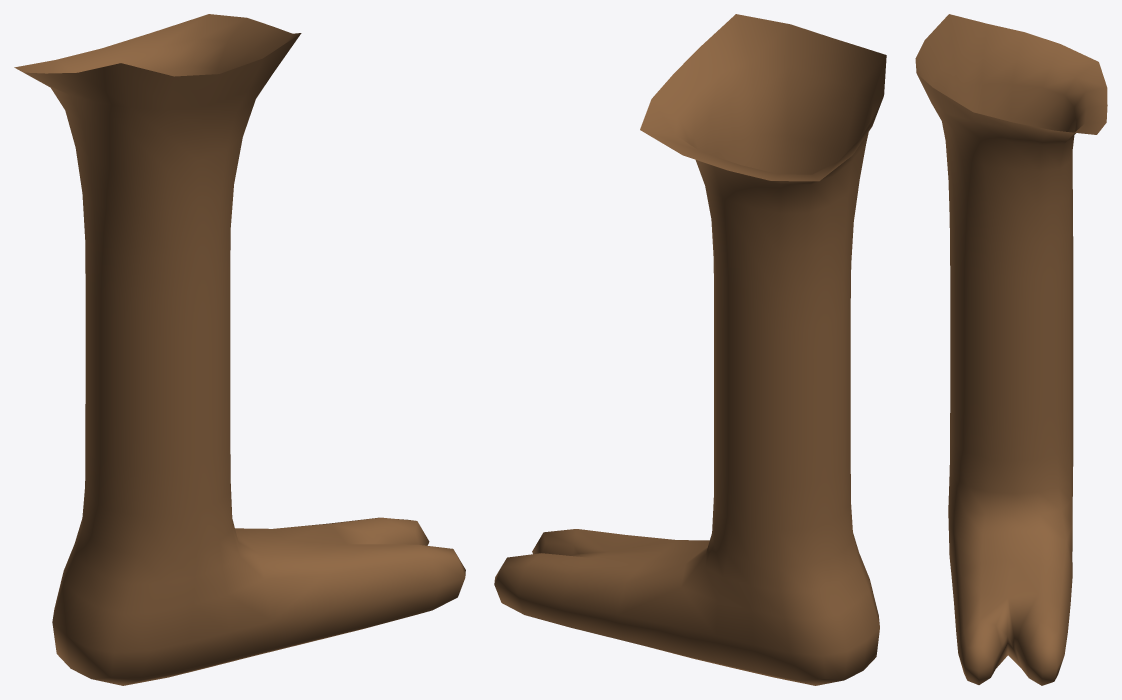
File: piederecho.obj
3 renders of one model, left to right at view 1: azimuth 30°, elevation 25°; view 2: azimuth 150°, elevation 25°; view 3: azimuth 270°, elevation 25°, orthographic. The views are drawn at different scales.
Visible parts, largest first — view 1: Cube.004_R'gby_=_Base; view 2: Cube.004_R'gby_=_Base; view 3: Cube.004_R'gby_=_Base.
Boxes of the visible parts, x1,y1,x2,y2 form: Cube.004_R'gby_=_Base: [14, 14, 465, 685]; Cube.004_R'gby_=_Base: [494, 14, 886, 685]; Cube.004_R'gby_=_Base: [915, 14, 1107, 685].
Bounding box in the file's own units: 0.1602 × 0.2506 × 0.0806.
